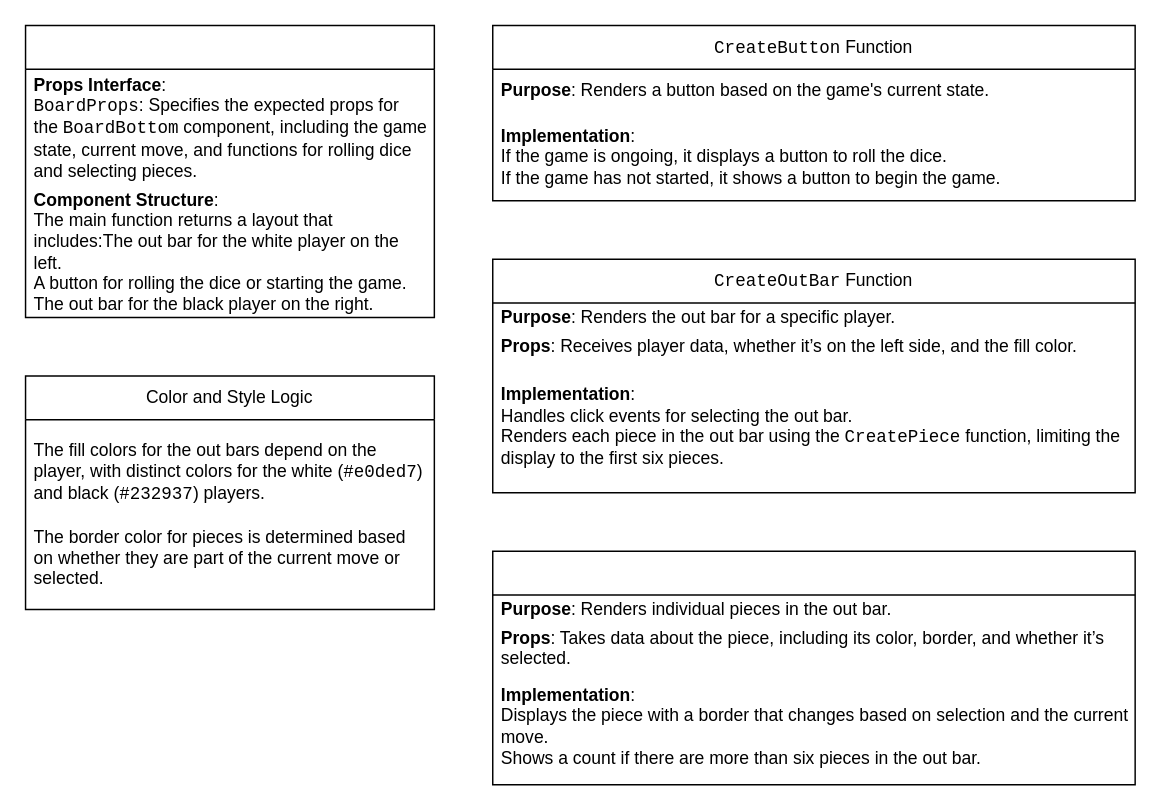
Image size: 1161x810. Some labels were removed from this diagram. The box of each missing label's shape, as (x1, y1, x2, y2) in pixels:
CreatePiece Function: (491, 550, 1135, 785)
Overview of the Component: (24, 24, 434, 318)
